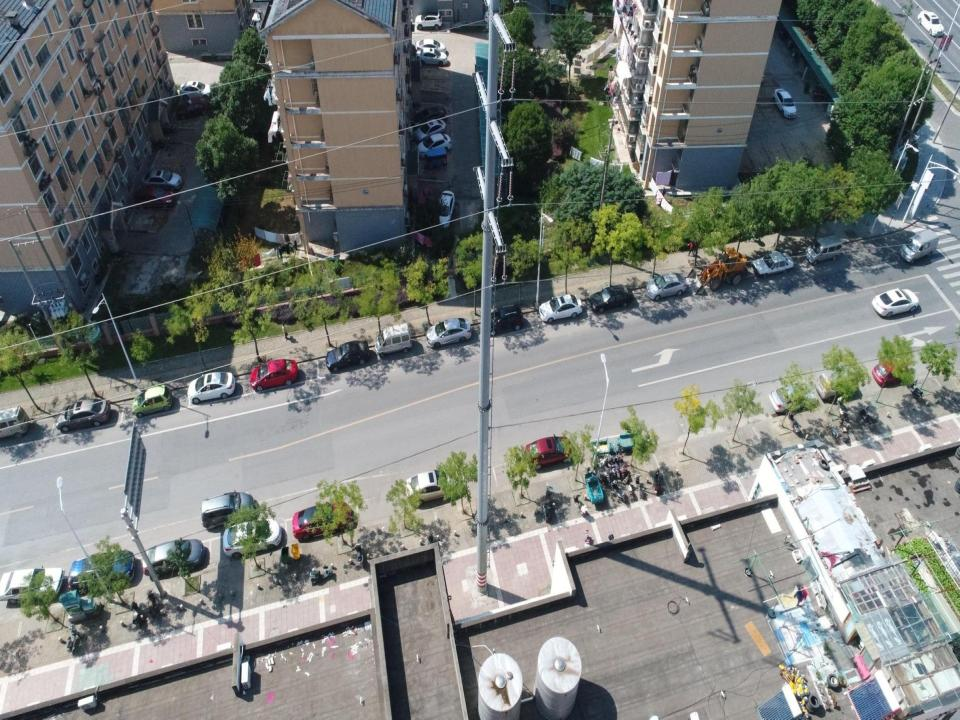car: (67, 550, 135, 596), (142, 537, 205, 579), (0, 566, 65, 606), (222, 518, 282, 560), (292, 500, 351, 542), (199, 490, 254, 530), (406, 469, 460, 509), (54, 397, 110, 432), (524, 434, 578, 470), (768, 380, 818, 415), (187, 371, 236, 405), (813, 364, 859, 400), (249, 358, 298, 391), (425, 317, 472, 350), (324, 340, 371, 373), (872, 287, 920, 319), (131, 383, 173, 419), (538, 293, 583, 324), (588, 283, 634, 313), (485, 303, 523, 337), (645, 272, 688, 302), (752, 250, 794, 279), (872, 359, 910, 388), (136, 184, 176, 210), (416, 132, 452, 160), (140, 169, 183, 192), (917, 9, 945, 38), (436, 190, 456, 230), (772, 87, 797, 119), (413, 118, 446, 142), (176, 95, 211, 117), (179, 80, 211, 102), (414, 47, 448, 67), (412, 106, 448, 124), (414, 11, 442, 30), (415, 38, 446, 54)
van: (898, 227, 939, 265), (374, 322, 412, 359), (804, 234, 842, 266), (0, 405, 30, 439)
